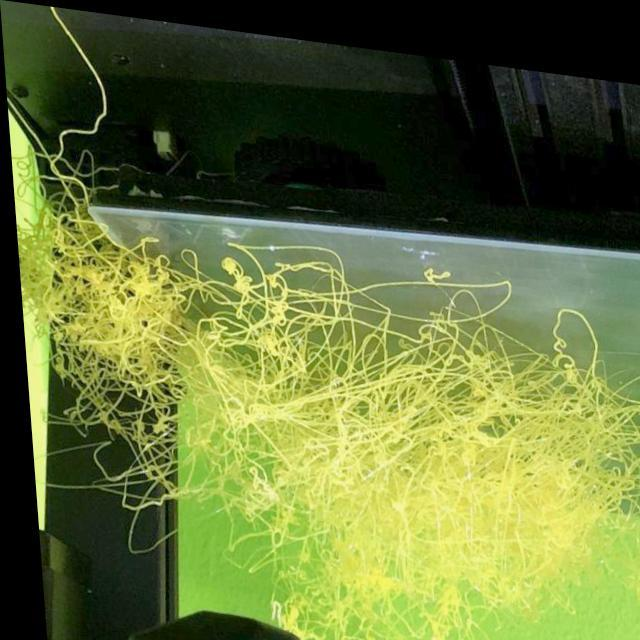spaghetti: (284, 421, 517, 640), (354, 304, 548, 460), (201, 257, 381, 408), (497, 405, 616, 586), (51, 240, 187, 383), (15, 156, 107, 302), (79, 353, 176, 490), (192, 417, 282, 522), (584, 405, 640, 523), (542, 320, 606, 418)
